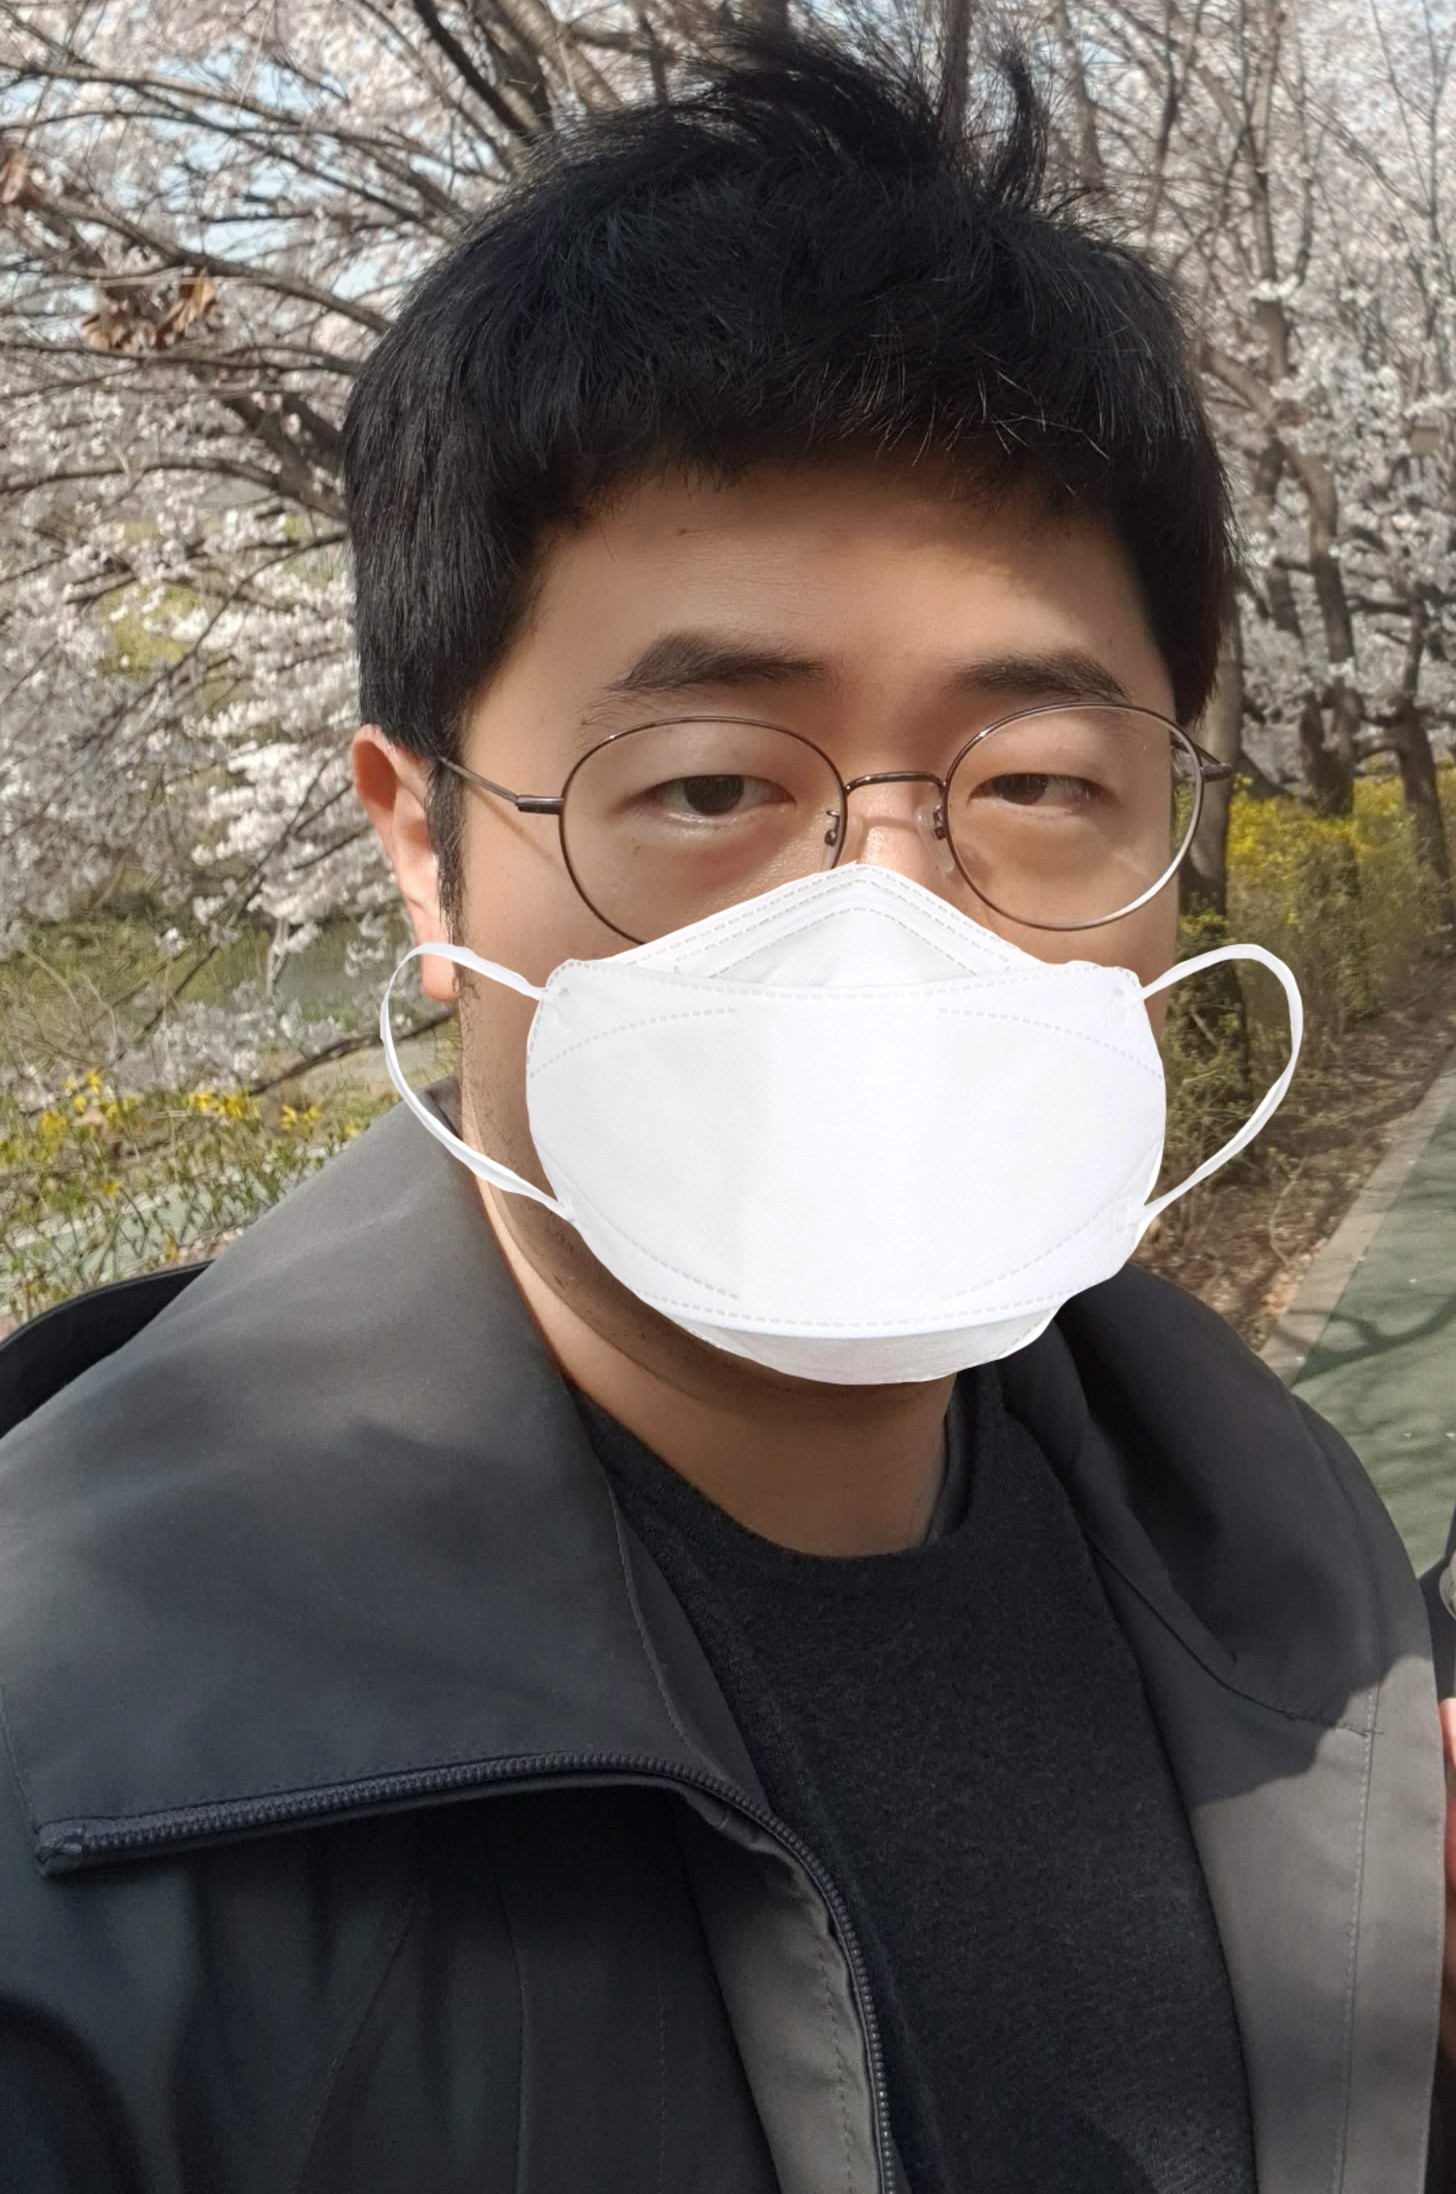mask: (466, 491, 1176, 1381)
